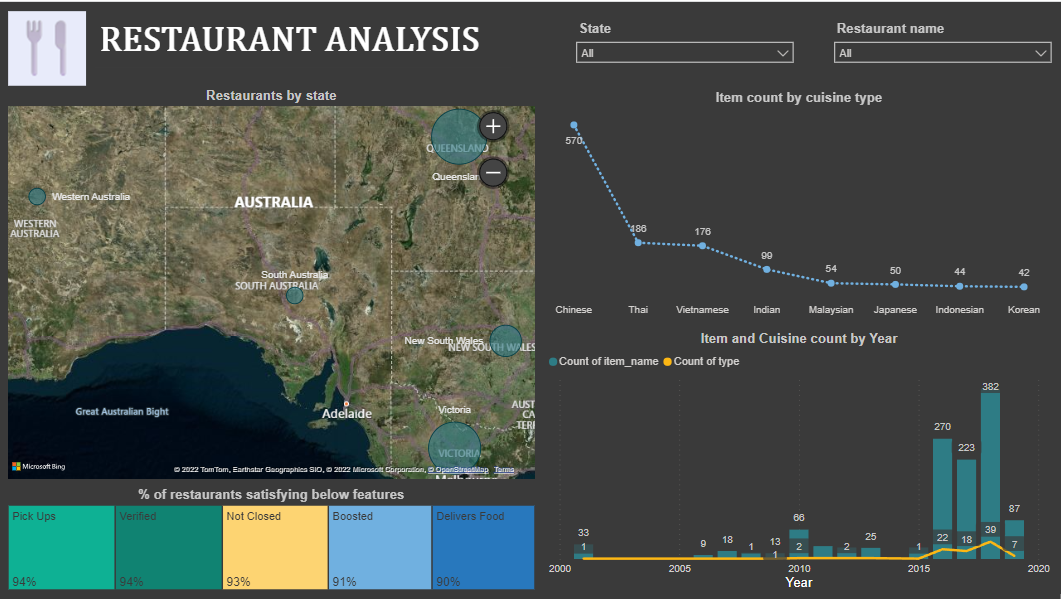

This screenshot's page, from the dashboard's own definition file:
{"tool":"powerbi","page":{"name":"Location","canvas":[1280,720],"ordinal":1},"visuals":[{"type":"map","title":"Restaurants by state","fields":{"Size":["CountNonNull(restaurant.restaurant_name)"],"Category":["restaurant.state"]},"box":[5.7,103.5,644.9,476.2],"z":0},{"type":"image","box":[0,5.5,115.6,100.5],"z":1000},{"type":"textbox","box":[115.6,17.9,502.4,60.6],"z":2000},{"type":"slicer","fields":{"Values":["restaurant.state"]},"box":[686.8,17.9,282.2,60.6],"z":3000},{"type":"treemap","title":"% of restaurants satisfying below features","fields":{"Values":["YesorNo_Table.Boosted","YesorNo_Table.Closed","YesorNo_Table.Delivers Food","YesorNo_Table.Pick Ups","YesorNo_Table.Verified"]},"box":[5.7,585.4,644.9,129],"z":4000},{"type":"slicer","fields":{"Values":["restaurant.restaurant_name"]},"box":[997.8,18.4,282,59.5],"z":5000},{"type":"lineStackedColumnComboChart","title":"Item and Cuisine count by Year","fields":{"Category":["restaurant.open_date.Variation.Date Hierarchy.Year"],"Y2":["CountNonNull(restaurant.type)"],"Y":["CountNonNull(item.item_name)"]},"box":[657.6,396.9,615.1,317.5],"z":6000},{"type":"lineChart","title":"Item count by cuisine type","fields":{"Category":["restaurant.type"],"Y":["CountNonNull(item.item_name)"]},"box":[657.6,106.3,615.1,280.6],"z":7000}]}

Visuals, with their boxes in screenshot pixels (x1, y1, x2, y2), scaled from the page's 1280x720 canvas onto the 1062x600 screenshot:
"Restaurants by state" map: x1=5, y1=86, x2=540, y2=483
image: x1=0, y1=5, x2=96, y2=88
textbox: x1=96, y1=15, x2=513, y2=65
slicer - restaurant.state: x1=570, y1=15, x2=804, y2=65
"% of restaurants satisfying below features" treemap: x1=5, y1=488, x2=540, y2=595
slicer - restaurant.restaurant_name: x1=828, y1=15, x2=1061, y2=65
"Item and Cuisine count by Year" lineStackedColumnComboChart: x1=546, y1=331, x2=1056, y2=595
"Item count by cuisine type" lineChart: x1=546, y1=89, x2=1056, y2=322
